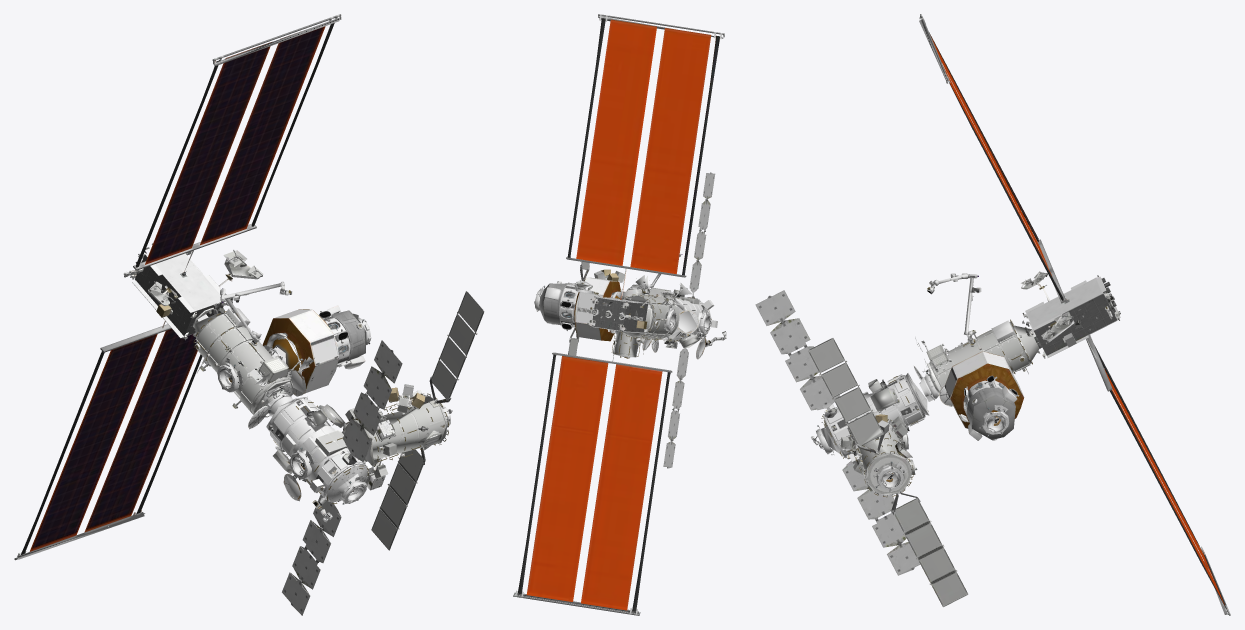
Rendered from gateway.glb.
The picture shows the model from 3 angles, left to right: view 1: azimuth 30°, elevation 25°; view 2: azimuth 150°, elevation 25°; view 3: azimuth 270°, elevation 25°; orthographic projection. The views are drawn at different scales.
Parts seen in each view (by area): view 1: Maxar_PPE Array, I-Hab, Airlock, ERMXL_LoRes, NG_HALO.001, Maxar_PPE.001, NDS port active hatch.006, NDS port active hatch.007, Big Arm_1; view 2: Maxar_PPE Array, I-Hab, ERMXL_LoRes, Maxar_PPE.001, NG_HALO.001, Airlock, NDS port active hatch.006, NDS port active hatch.007; view 3: I-Hab, Airlock, Maxar_PPE Array, Maxar_PPE.001, ERMXL_LoRes, NG_HALO.001, NDS port active hatch.006, NDS port active hatch.007, Big Arm_1.
Part boxes in pixels (bbox=[...]): Maxar_PPE Array: bbox=[14, 14, 341, 560]; I-Hab: bbox=[266, 340, 402, 615]; Airlock: bbox=[342, 290, 484, 550]; ERMXL_LoRes: bbox=[262, 305, 366, 393]; NG_HALO.001: bbox=[193, 307, 314, 417]; Maxar_PPE.001: bbox=[123, 243, 263, 340]; NDS port active hatch.006: bbox=[248, 396, 450, 504]; NDS port active hatch.007: bbox=[217, 313, 371, 413]; Big Arm_1: bbox=[220, 281, 332, 522]; Maxar_PPE Array: bbox=[513, 14, 724, 615]; I-Hab: bbox=[661, 172, 717, 468]; ERMXL_LoRes: bbox=[539, 277, 623, 341]; Maxar_PPE.001: bbox=[574, 281, 675, 333]; NG_HALO.001: bbox=[620, 275, 692, 354]; Airlock: bbox=[568, 262, 649, 358]; NDS port active hatch.006: bbox=[642, 307, 711, 359]; NDS port active hatch.007: bbox=[534, 285, 676, 332]; I-Hab: bbox=[755, 290, 929, 575]; Airlock: bbox=[808, 338, 968, 607]; Maxar_PPE Array: bbox=[919, 14, 1230, 615]; Maxar_PPE.001: bbox=[1021, 271, 1120, 358]; ERMXL_LoRes: bbox=[944, 351, 1024, 440]; NG_HALO.001: bbox=[915, 319, 1040, 395]; NDS port active hatch.006: bbox=[815, 366, 934, 491]; NDS port active hatch.007: bbox=[924, 342, 1009, 436]; Big Arm_1: bbox=[811, 273, 981, 451].
Bounding box in the file's own units: 17.88 × 38.97 × 30.06.
13 materials, 13 textured.
